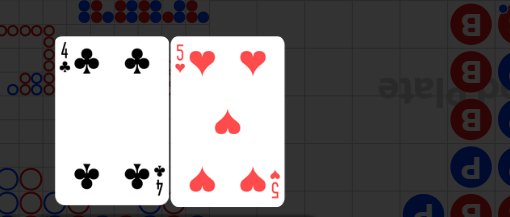4C: (151, 163, 166, 197)
5H: (269, 168, 281, 200)
